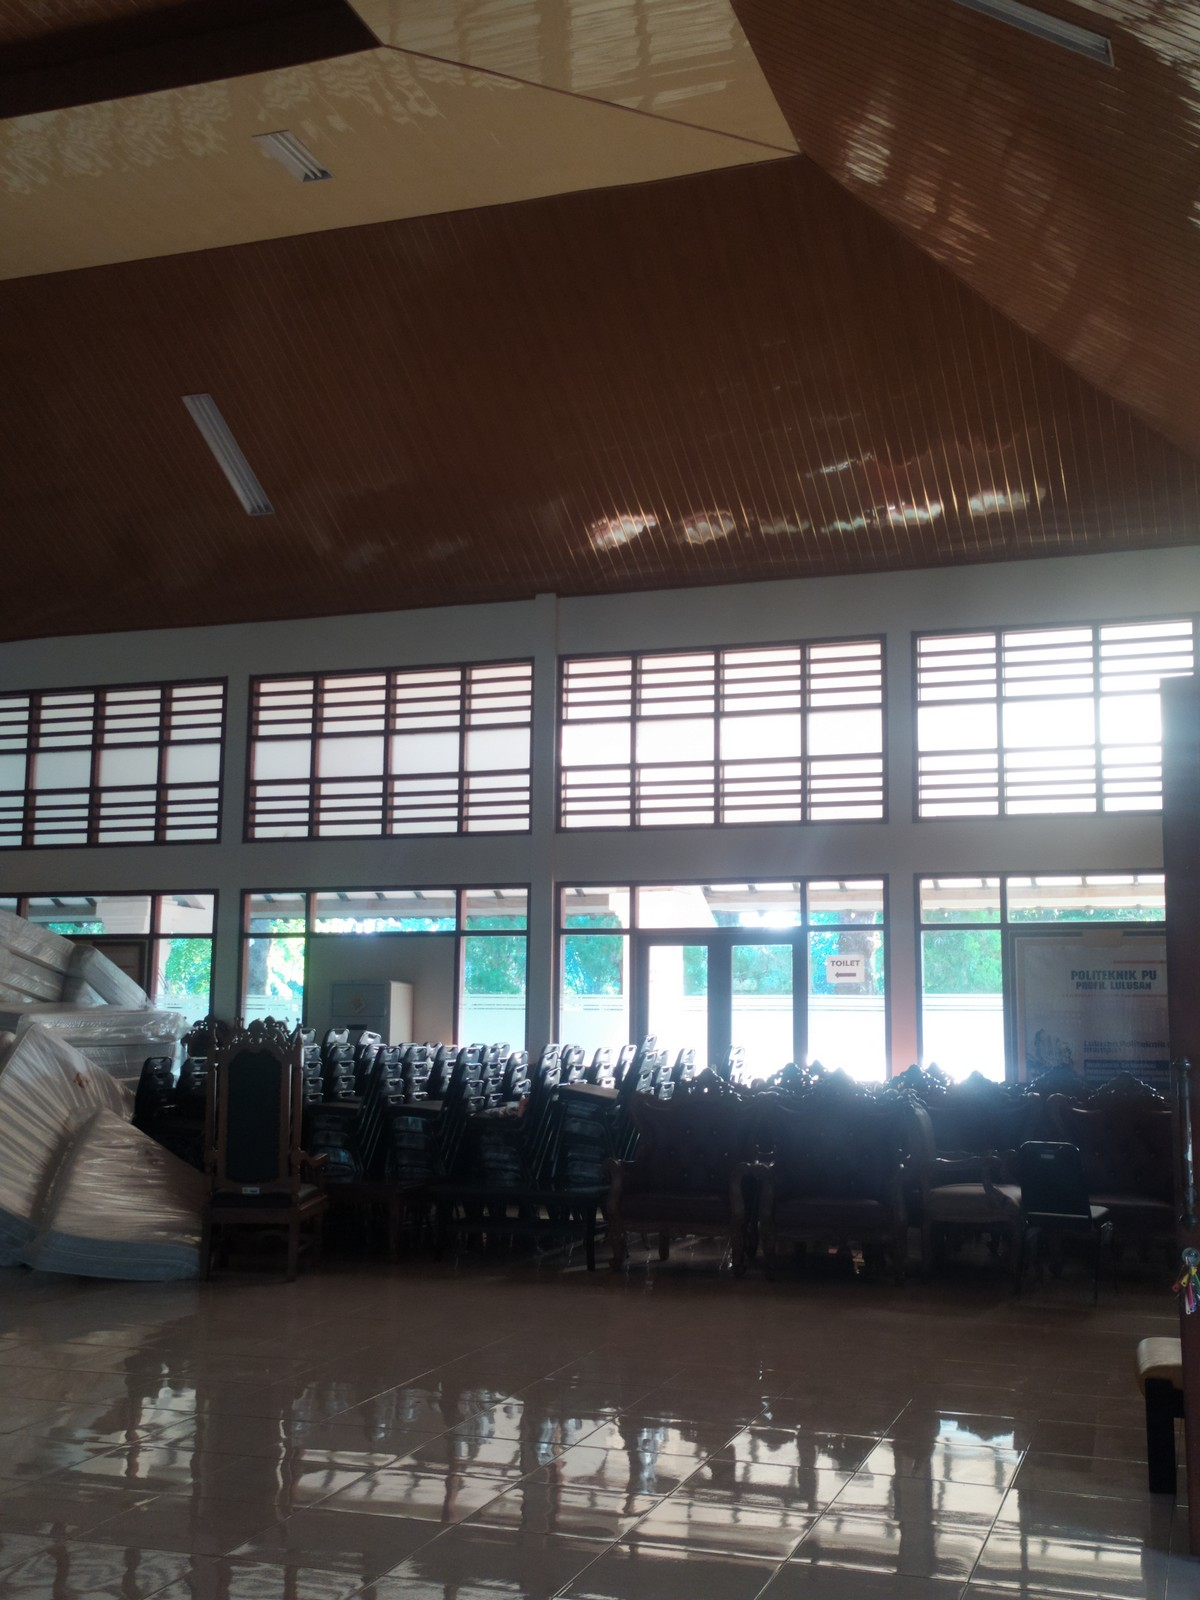concrete column: (524, 581, 563, 1049)
